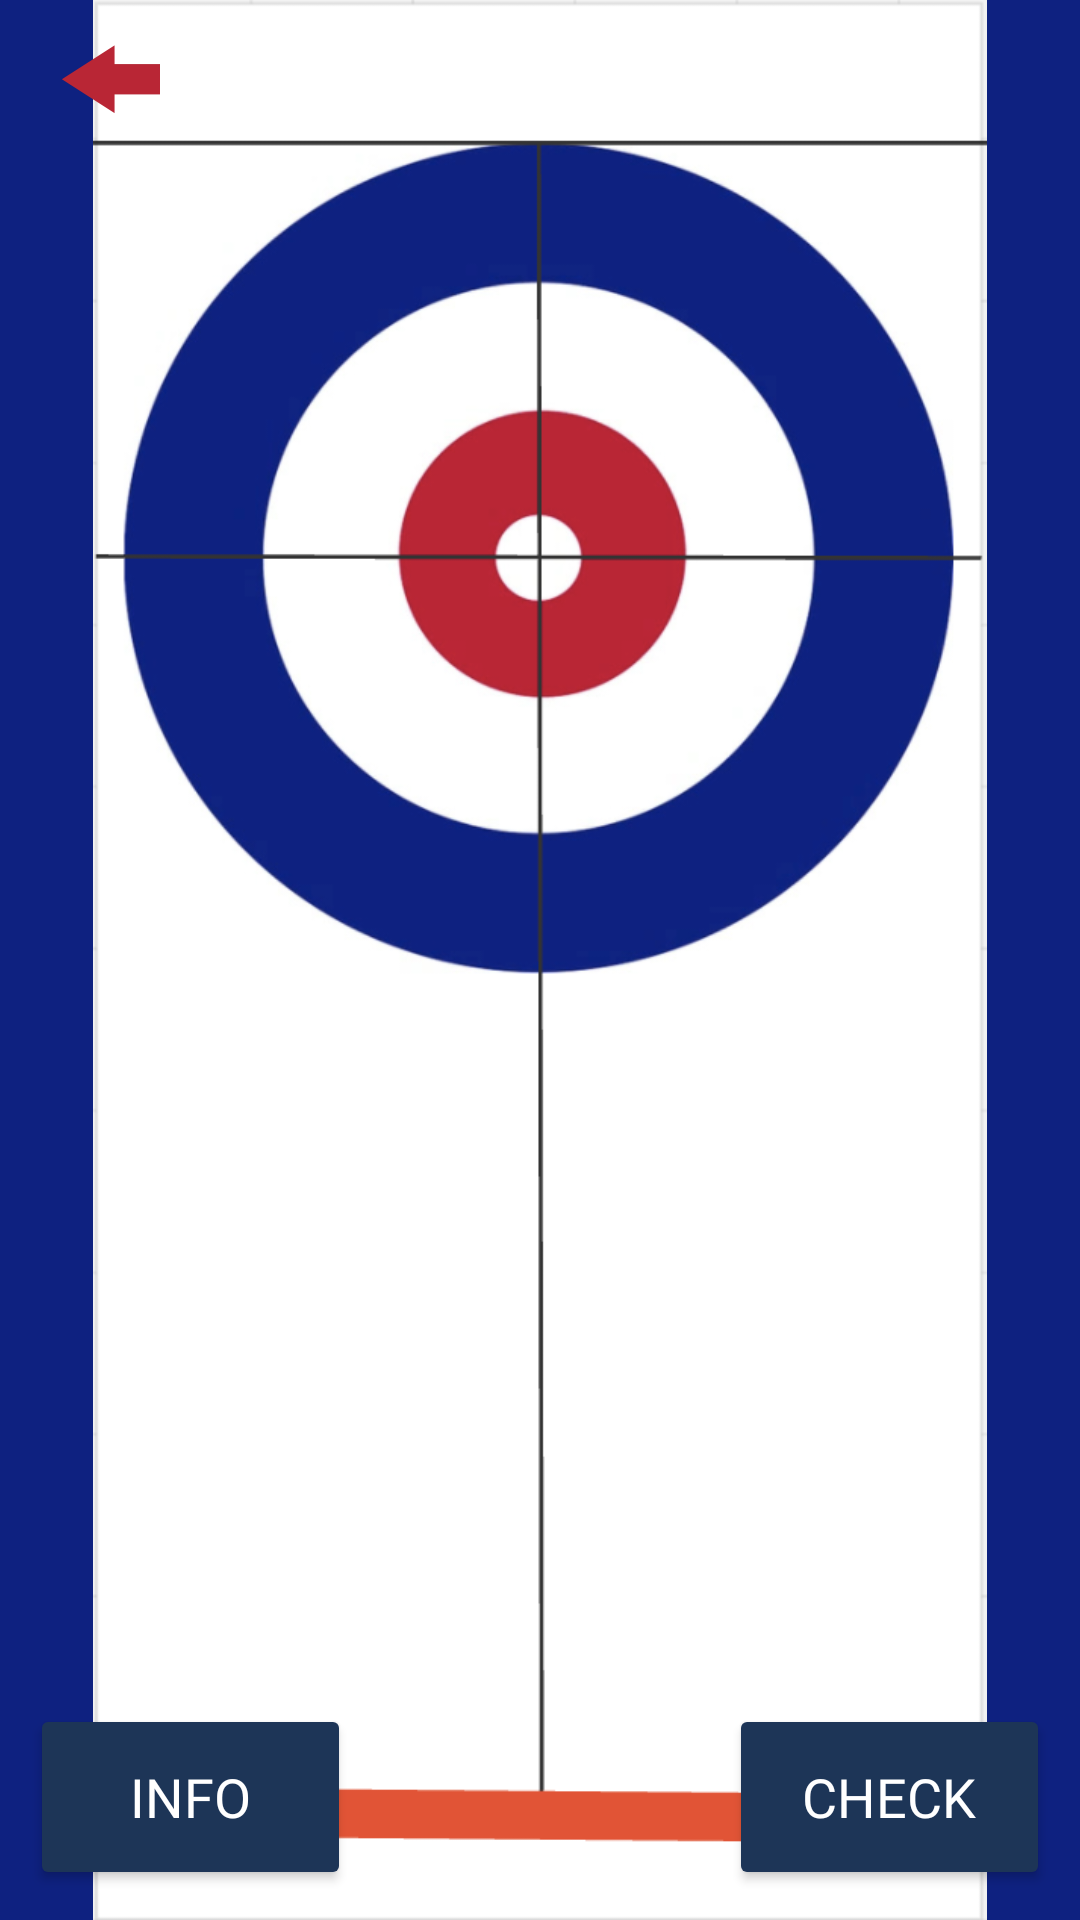

Icons on this 1080x1920 Android screen, each with the point to tap as point (x, y):
back arrow: point (110, 80)
